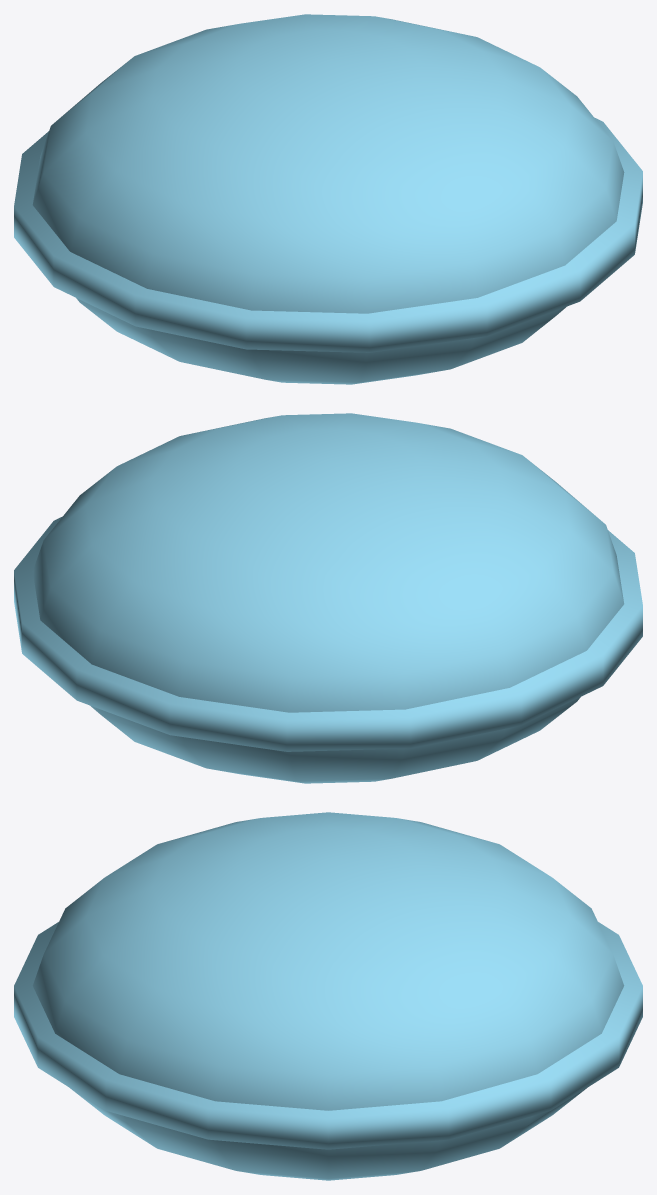
File: grav_lifter_dome.glb
The picture shows the model from 3 angles, top to bottom: view 1: azimuth 30°, elevation 25°; view 2: azimuth 150°, elevation 25°; view 3: azimuth 270°, elevation 25°; orthographic projection.
Parts seen in each view (by area): view 1: grav_lifter_dome; view 2: grav_lifter_dome; view 3: grav_lifter_dome.
Part boxes in pixels (box(x1,y1,x2,y2)): grav_lifter_dome: box(14, 14, 642, 384); grav_lifter_dome: box(14, 413, 642, 783); grav_lifter_dome: box(14, 812, 642, 1180).
Size of the model in its own units: 0.735 by 0.35 by 0.735.
